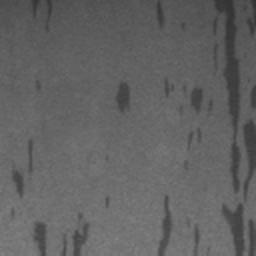Red iron sheet: (164, 0, 256, 256), (159, 195, 200, 256), (33, 214, 90, 256), (12, 137, 33, 197), (155, 0, 187, 31), (31, 0, 54, 33), (115, 82, 131, 113), (35, 77, 42, 93), (105, 196, 111, 207)
